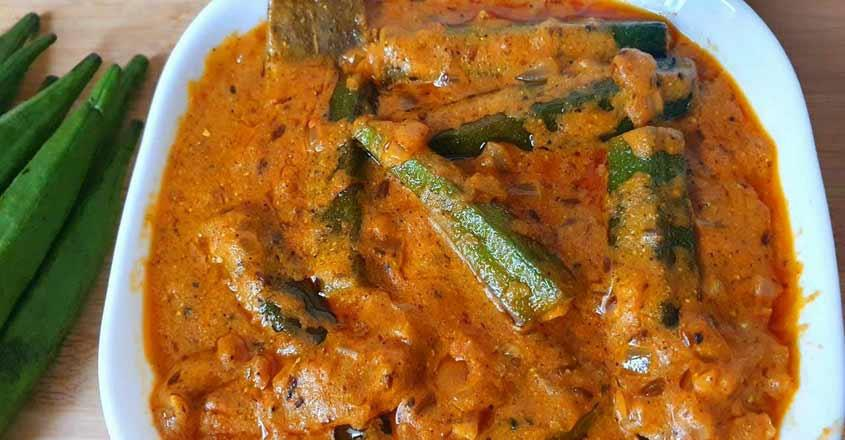BhindiMasala: (142, 0, 798, 440)
